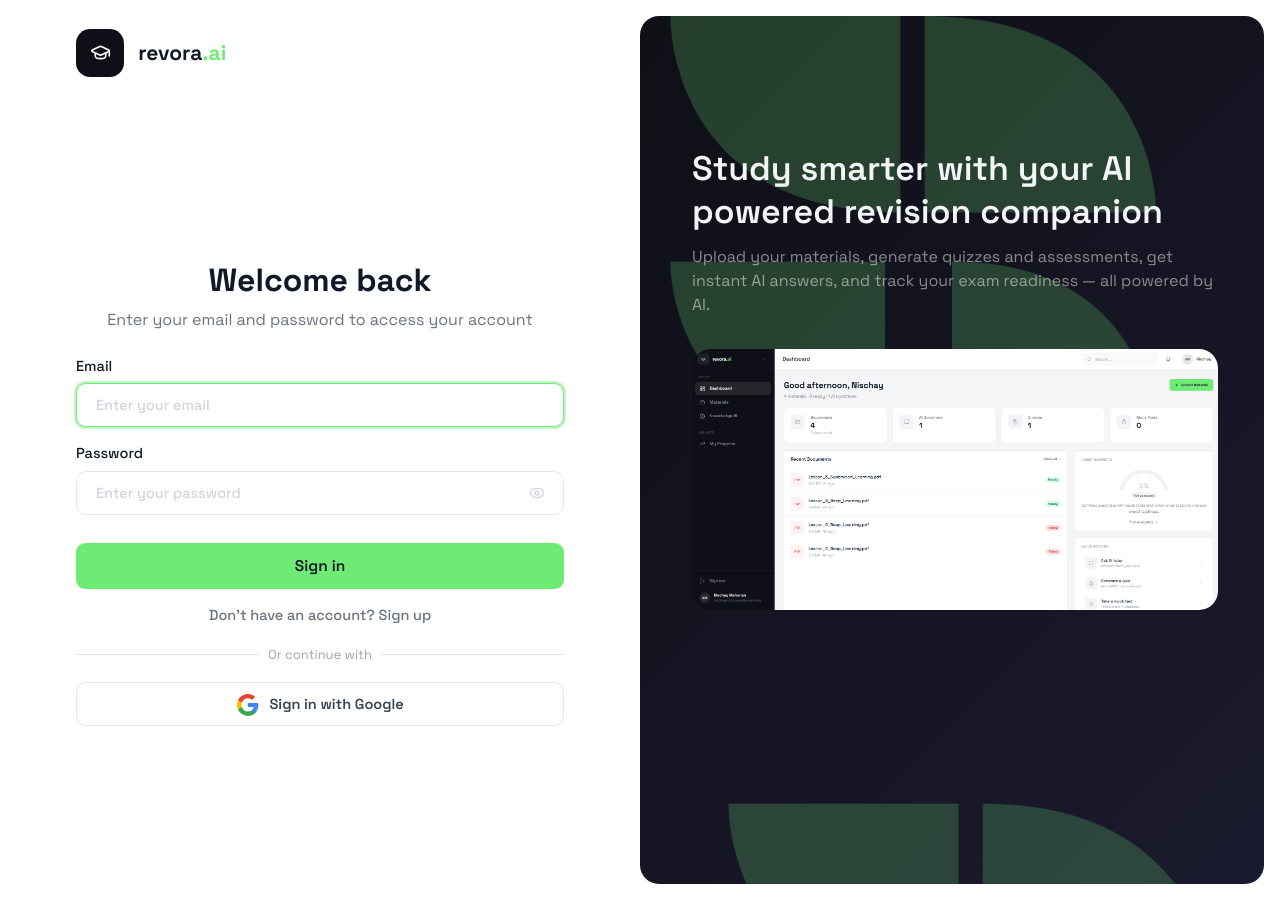
Test: Login page › shows error message from API on failed login
The image size is (1280, 900).
Type "bad@example.com" into the field with placeholder "Enter your email" at (320, 405), box [76,383,564,427]
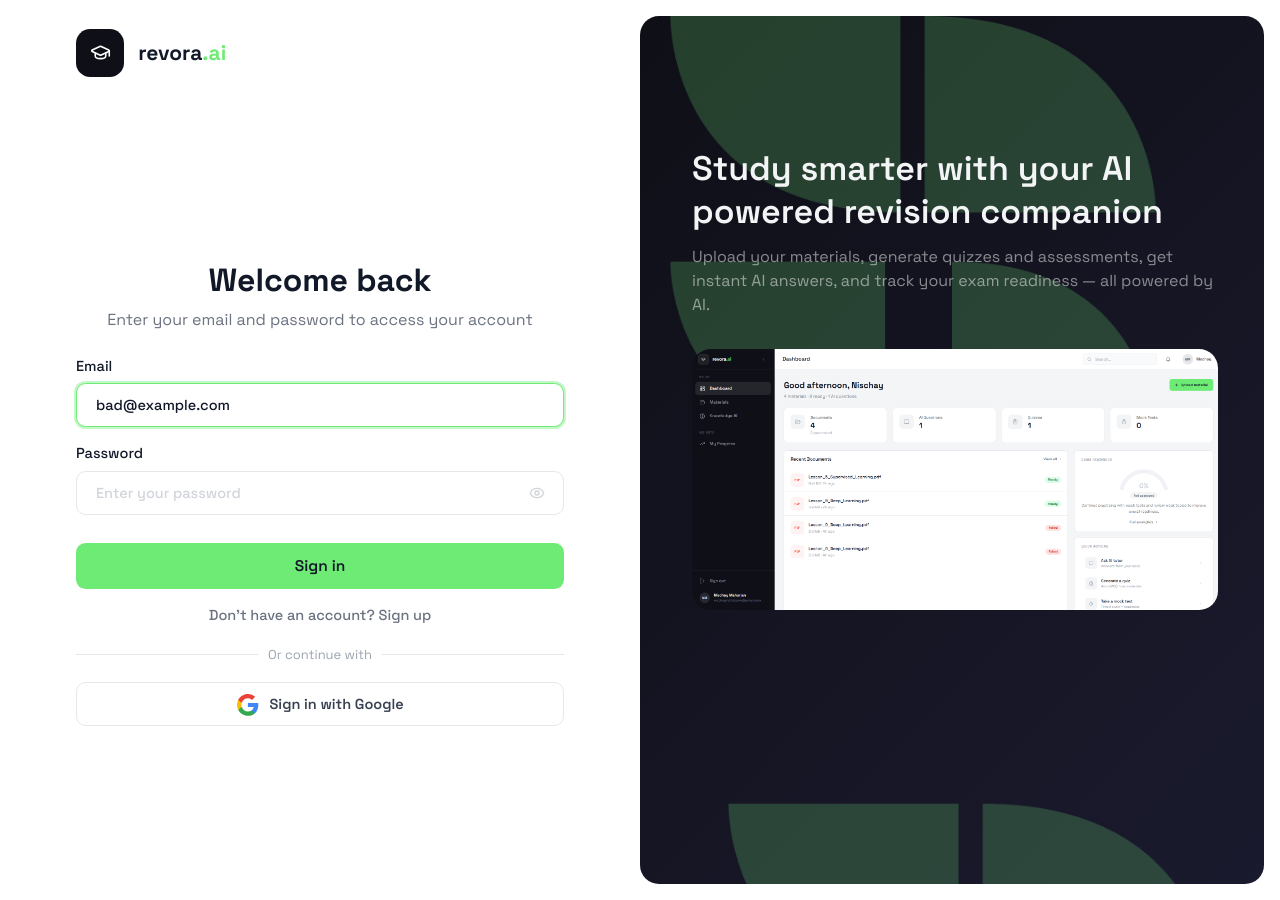
Type "wrong" into the password field with placeholder "Enter your password" at (320, 493), box [76,471,564,515]
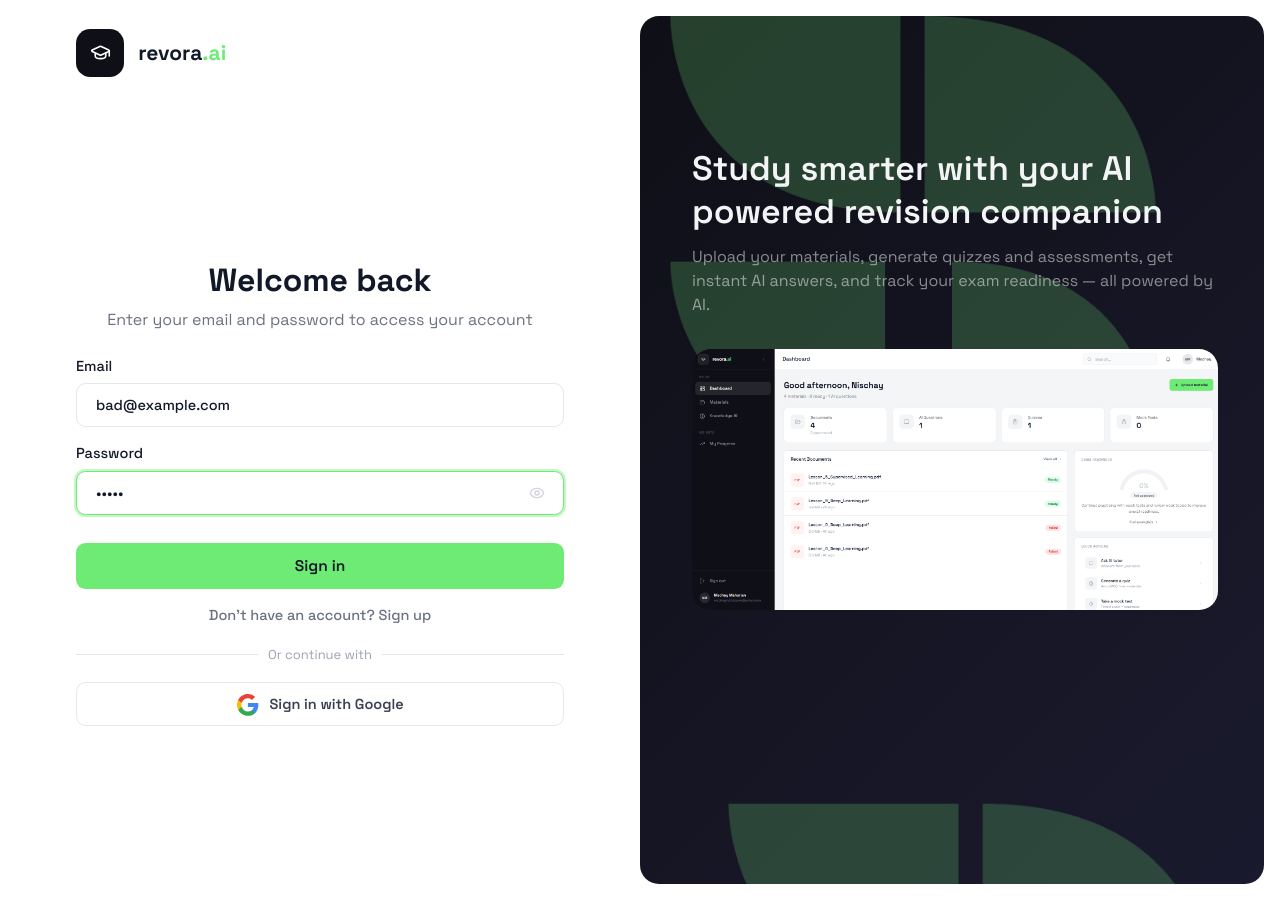
Click the button "Sign in" at (320, 566), box [76,543,564,589]
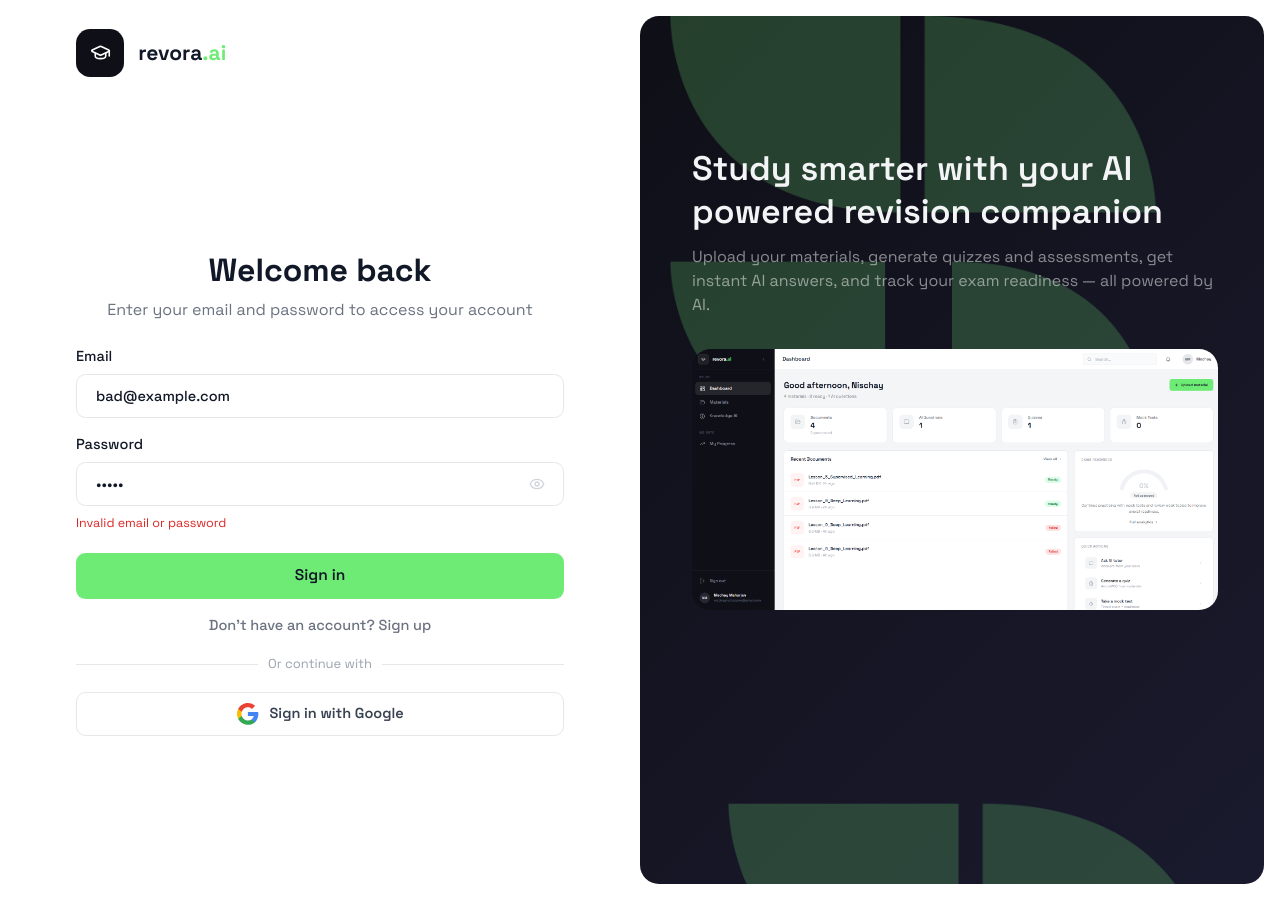
expect the text "Invalid email or password" is shown: met, box [76,514,226,533]
